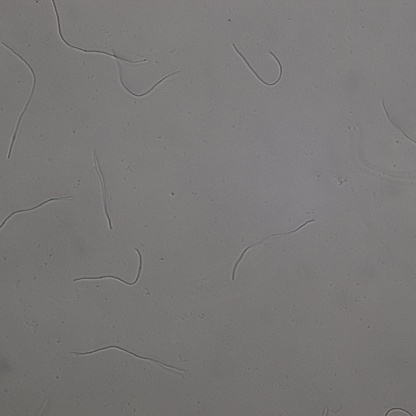Sensitive: (51, 1, 147, 63), (232, 219, 313, 279), (4, 42, 36, 159), (112, 49, 179, 97), (73, 345, 183, 371), (73, 248, 143, 286), (1, 196, 70, 228), (233, 43, 283, 86), (382, 99, 416, 144), (94, 153, 112, 228), (385, 406, 413, 416)
